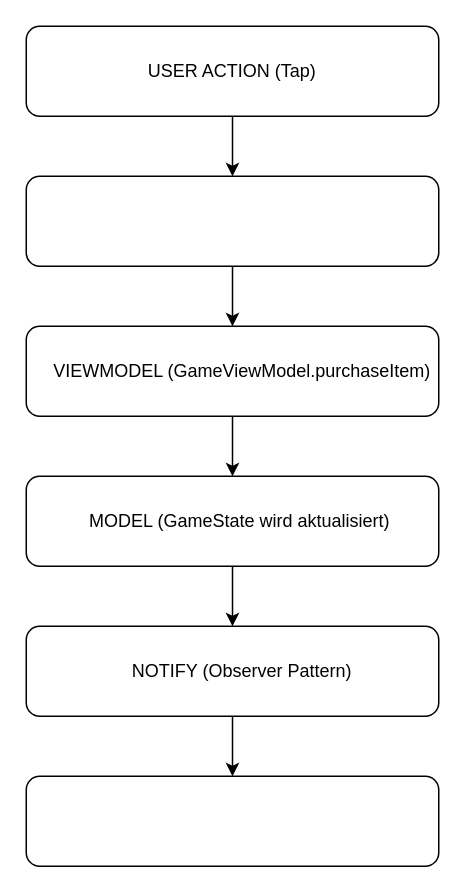
Image size: 465x893. Some labels were removed from this diagram. Here are the shapes that lost their labels. From the top down, the centre of each, then its label:
point 232,220: VIEW (MainGameView)
point 232,820: VIEW UPDATE (automatisch)
